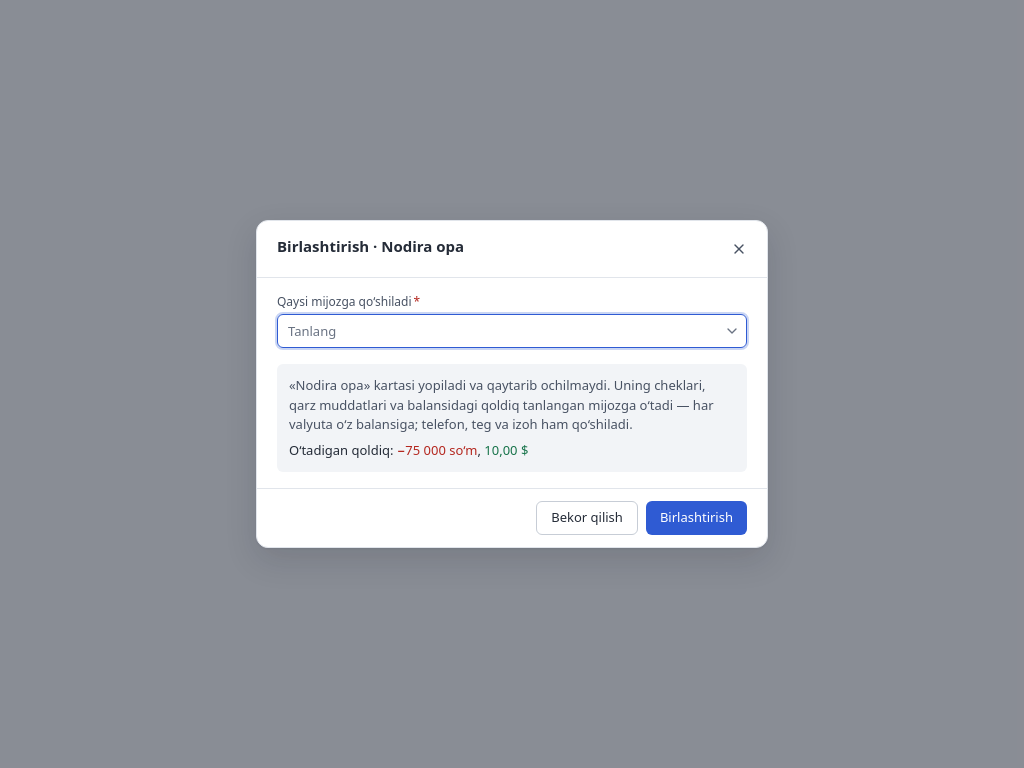
Test: making two cards of one person one › does nothing until someone is picked, and says what the server would not have
This screenshot has width=1024, height=768.
Click the button "Birlashtirish".
click(696, 518)  # box x1=646 y1=501 x2=747 y2=535
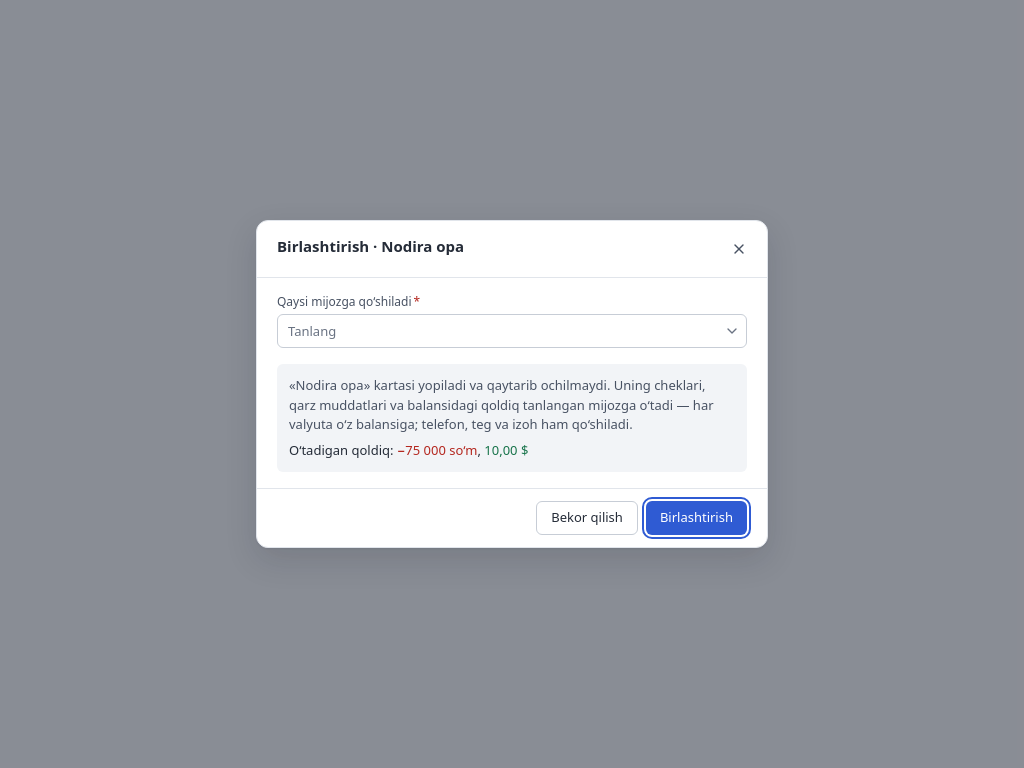
Click the dropdown.
click(504, 331)  # box x1=288 y1=318 x2=720 y2=344
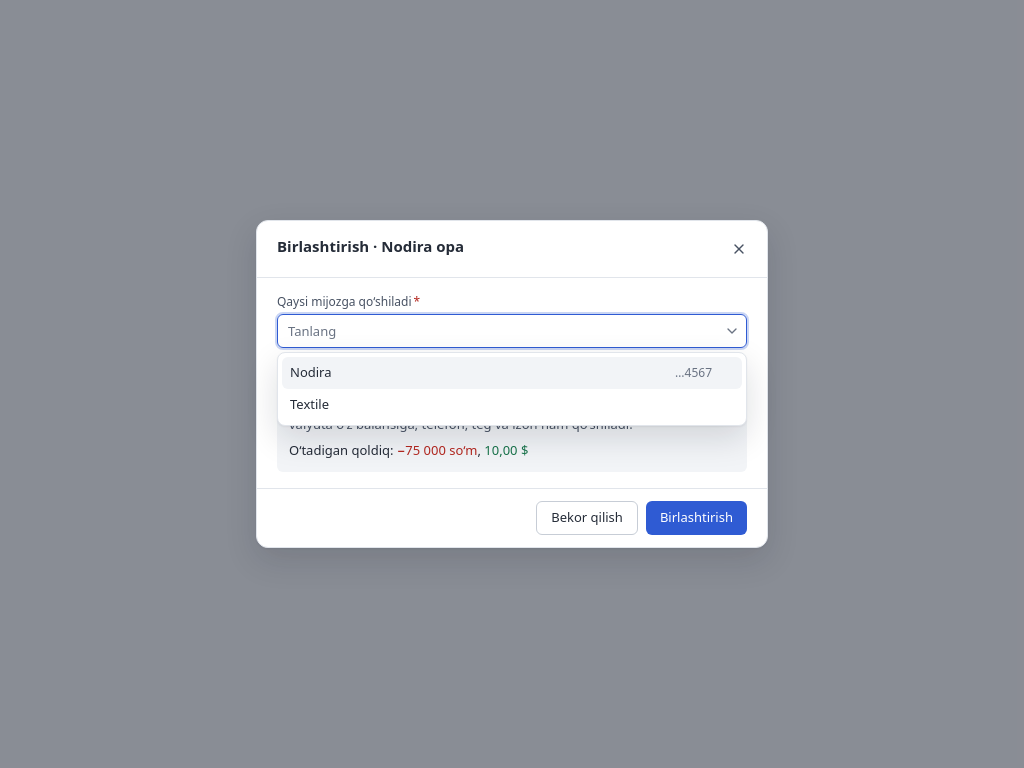
Click the text "Nodira".
click(311, 372)  # box x1=290 y1=363 x2=332 y2=381
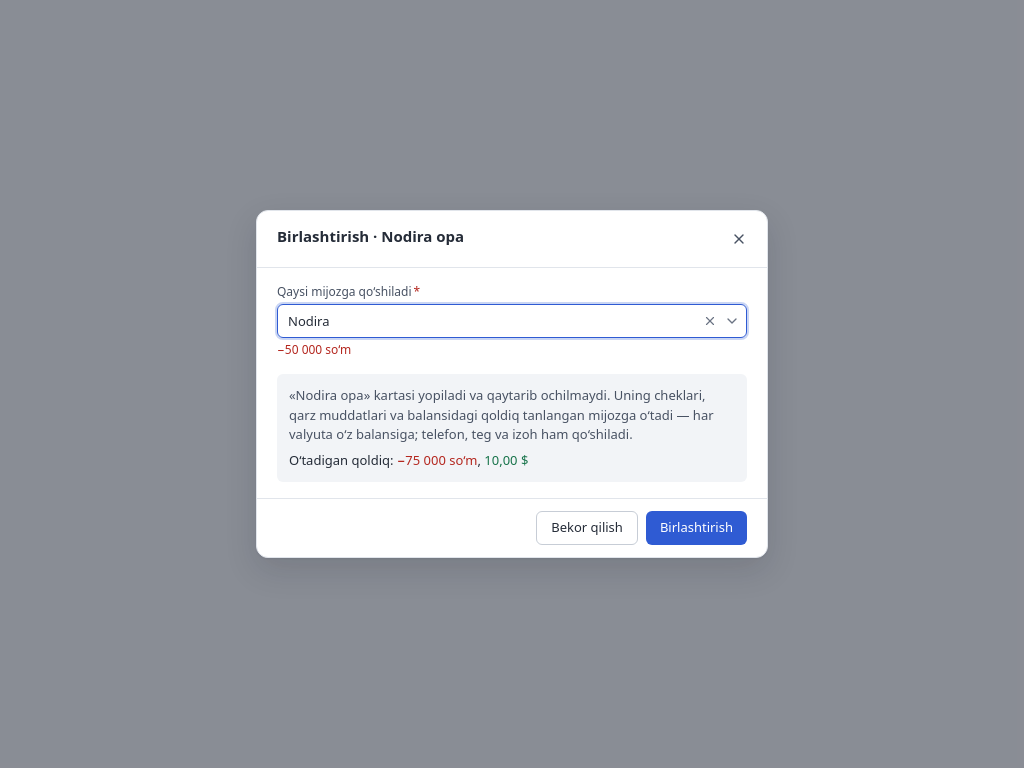
Click the button "Birlashtirish".
click(696, 528)  # box x1=646 y1=511 x2=747 y2=545
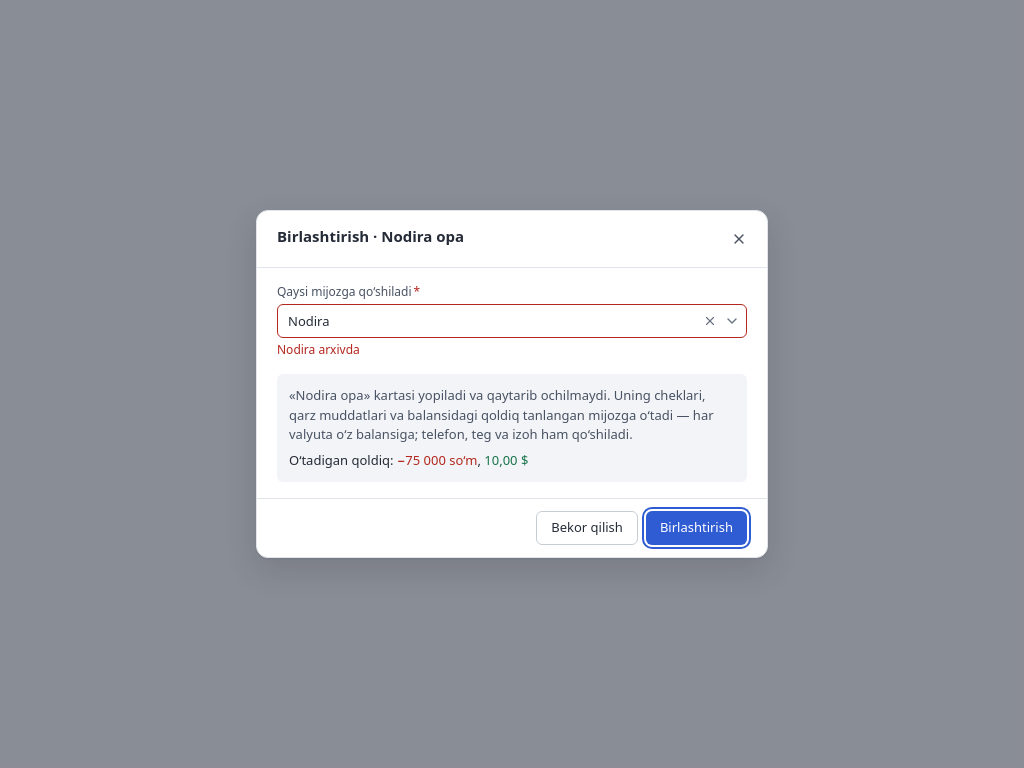
Expected: the text "Nodira arxivda" is shown, x1=277 y1=341 x2=360 y2=358
